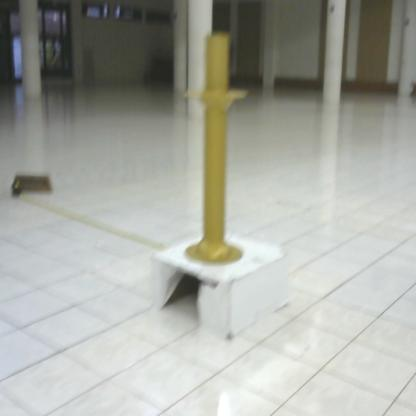pole: (178, 30, 256, 273)
